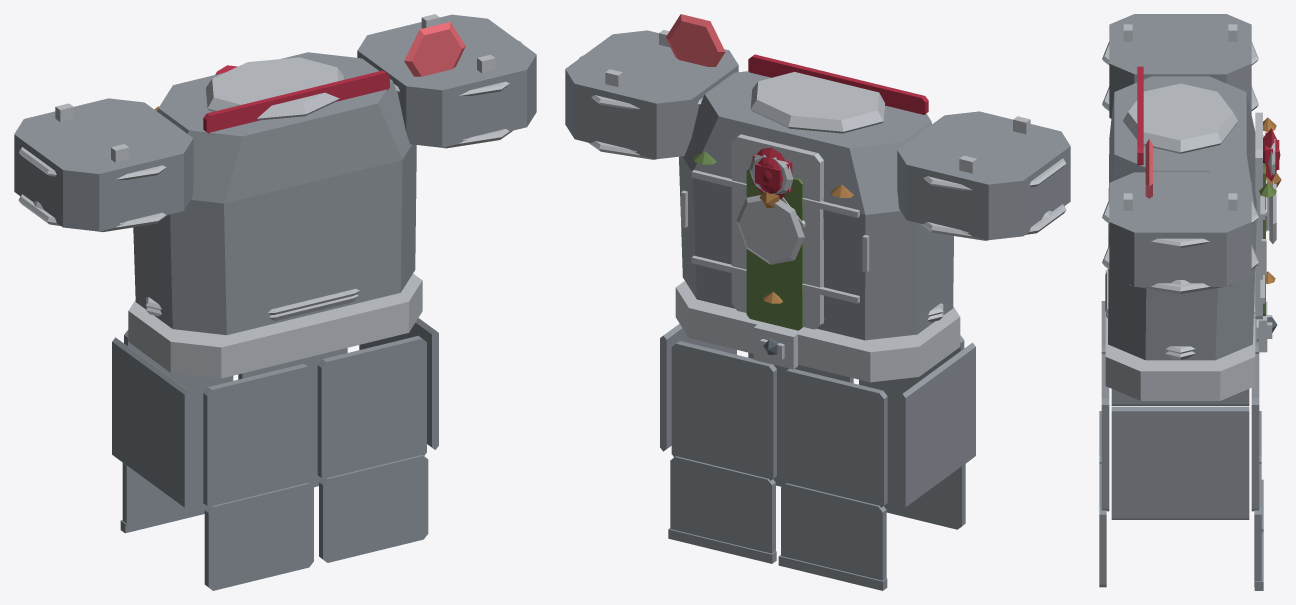
Rendered from armor_healer_s4.fbx.
The picture shows the model from 3 angles, left to right: view 1: azimuth 30°, elevation 25°; view 2: azimuth 150°, elevation 25°; view 3: azimuth 270°, elevation 25°; orthographic projection. The views are drawn at different scales.
Parts seen in each view (by area): view 1: Chest_Body, Tasset_L_Body, Tasset_R_Body, Chest_Trim, Shoulder_L_Body, Shoulder_R_Body, Chest_CoreGem_An, Float_Float, Shoulder_L_Trim, Shoulder_R_Trim, Chest_Trim_Ep; view 2: Tasset_L_Body, Chest_Body, Chest_Trim, Tasset_R_Body, Shoulder_L_Body, Shoulder_R_Body, Chest_Attach, Chest_CoreGem_An, Float_Float, Shoulder_L_Trim, Shoulder_R_Trim, Chest_CoreGem_Re; view 3: Tasset_R_Body, Chest_Body, Chest_Trim, Shoulder_R_Body, Shoulder_L_Body, Tasset_L_Body, Shoulder_R_Trim, Chest_CoreGem_An, Shoulder_L_Trim, Float_Float, Chest_Trim_Ep, Chest_Attach (+1 smaller).
Part boxes in pixels (x1=…): Chest_Body: x1=133, y1=52, x2=416, y2=335; Tasset_L_Body: x1=112, y1=330, x2=313, y2=590; Tasset_R_Body: x1=238, y1=318, x2=438, y2=562; Chest_Trim: x1=128, y1=57, x2=422, y2=378; Shoulder_L_Body: x1=14, y1=98, x2=193, y2=231; Shoulder_R_Body: x1=357, y1=14, x2=536, y2=147; Chest_CoreGem_An: x1=203, y1=70, x2=389, y2=133; Float_Float: x1=404, y1=22, x2=465, y2=76; Shoulder_L_Trim: x1=18, y1=103, x2=169, y2=232; Shoulder_R_Trim: x1=394, y1=14, x2=522, y2=148; Chest_Trim_Ep: x1=146, y1=288, x2=359, y2=314; Tasset_L_Body: x1=778, y1=335, x2=975, y2=590; Chest_Body: x1=679, y1=71, x2=953, y2=340; Chest_Trim: x1=675, y1=72, x2=960, y2=382; Tasset_R_Body: x1=660, y1=323, x2=853, y2=563; Shoulder_L_Body: x1=897, y1=111, x2=1070, y2=240; Shoulder_R_Body: x1=565, y1=30, x2=738, y2=159; Chest_Attach: x1=693, y1=151, x2=803, y2=330; Chest_CoreGem_An: x1=748, y1=54, x2=928, y2=192; Float_Float: x1=666, y1=14, x2=725, y2=66; Shoulder_L_Trim: x1=920, y1=116, x2=1066, y2=240; Shoulder_R_Trim: x1=579, y1=30, x2=702, y2=159; Chest_CoreGem_Re: x1=757, y1=147, x2=785, y2=199; Tasset_R_Body: x1=1099, y1=354, x2=1263, y2=590; Chest_Body: x1=1108, y1=76, x2=1256, y2=360; Chest_Trim: x1=1105, y1=83, x2=1276, y2=400; Shoulder_R_Body: x1=1109, y1=172, x2=1251, y2=286; Shoulder_L_Body: x1=1109, y1=14, x2=1251, y2=118; Tasset_L_Body: x1=1099, y1=301, x2=1263, y2=532; Shoulder_R_Trim: x1=1102, y1=193, x2=1258, y2=293; Chest_CoreGem_An: x1=1137, y1=66, x2=1279, y2=177; Shoulder_L_Trim: x1=1102, y1=24, x2=1258, y2=110; Float_Float: x1=1145, y1=139, x2=1152, y2=198; Chest_Trim_Ep: x1=1105, y1=271, x2=1255, y2=353; Chest_Attach: x1=1259, y1=163, x2=1276, y2=315.
Bounding box in the file's own units: 428 × 406 × 146.
